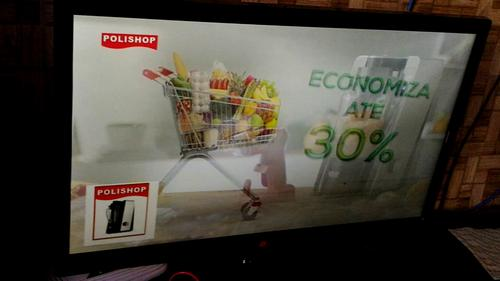Polishop #1: (83, 181, 159, 246)
